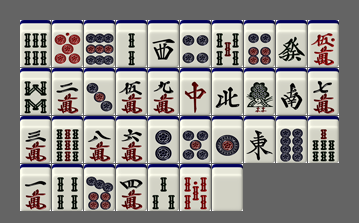0m: (308, 20, 339, 67)
0p: (52, 20, 83, 67)
0s: (180, 164, 211, 211)
1m: (20, 164, 51, 211)
1p: (212, 116, 243, 163)
1s: (244, 68, 275, 115)
1z: (244, 116, 275, 163)
2m: (52, 68, 83, 115)
2p: (148, 116, 179, 163)
2s: (116, 20, 147, 67)
2z: (276, 68, 307, 115)
3m: (20, 116, 51, 163)
3p: (84, 68, 115, 115)
3s: (148, 164, 179, 211)
3z: (148, 20, 179, 67)
4m: (116, 164, 147, 211)
4p: (180, 20, 211, 67)
4s: (52, 164, 83, 211)
4z: (212, 68, 243, 115)
5m: (116, 68, 147, 115)
5p: (180, 116, 211, 163)
5s: (212, 20, 243, 67)
5z: (212, 164, 243, 211)
6m: (116, 116, 147, 163)
6p: (244, 20, 275, 67)
6s: (20, 20, 51, 67)
6z: (276, 20, 307, 67)
7m: (308, 68, 339, 115)
7p: (84, 164, 115, 211)
7s: (308, 116, 339, 163)
7z: (180, 68, 211, 115)
8m: (84, 116, 115, 163)
8p: (276, 116, 307, 163)
8s: (20, 68, 51, 115)
9m: (148, 68, 179, 115)
9p: (84, 20, 115, 67)
9s: (52, 116, 83, 163)
